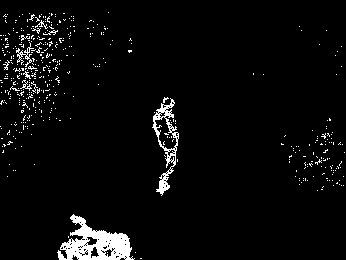person: (152, 96, 177, 196)
